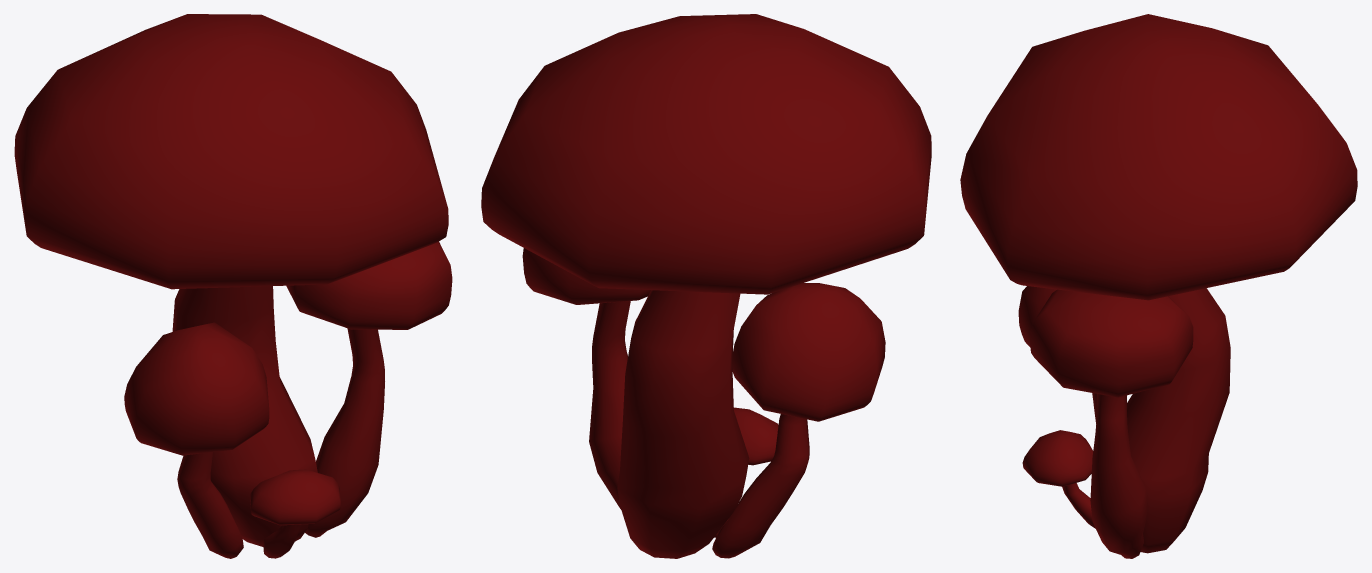
Rendered from Fantasy_Mushrooms_Large.fbx.
The picture shows the model from 3 angles, left to right: view 1: azimuth 30°, elevation 25°; view 2: azimuth 150°, elevation 25°; view 3: azimuth 270°, elevation 25°; orthographic projection. The views are drawn at different scales.
Visible parts, largest first — view 1: Mushrooms; view 2: Mushrooms; view 3: Mushrooms.
Boxes of the visible parts, x1,y1,x2,y2 form: Mushrooms: [14, 14, 452, 558]; Mushrooms: [481, 14, 931, 558]; Mushrooms: [960, 14, 1357, 558].
Bounding box in the file's own units: 26.07 × 32.05 × 23.84.
